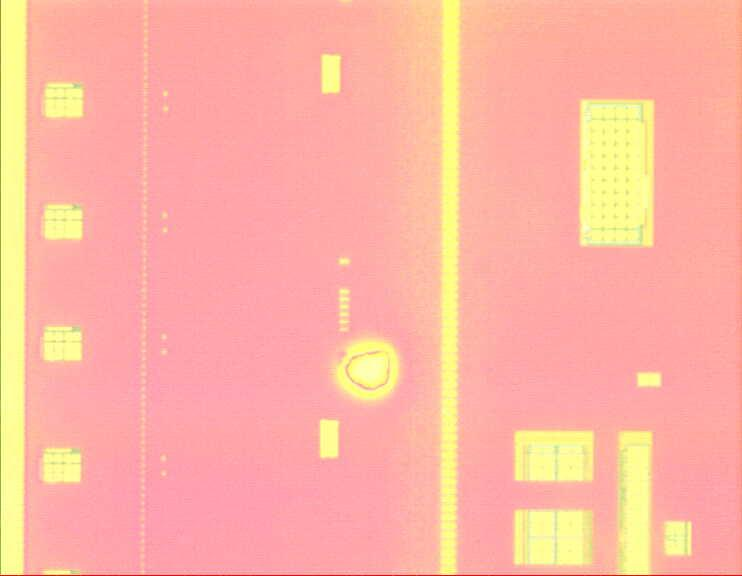BLOCK ETCH: (334, 336, 402, 402)
